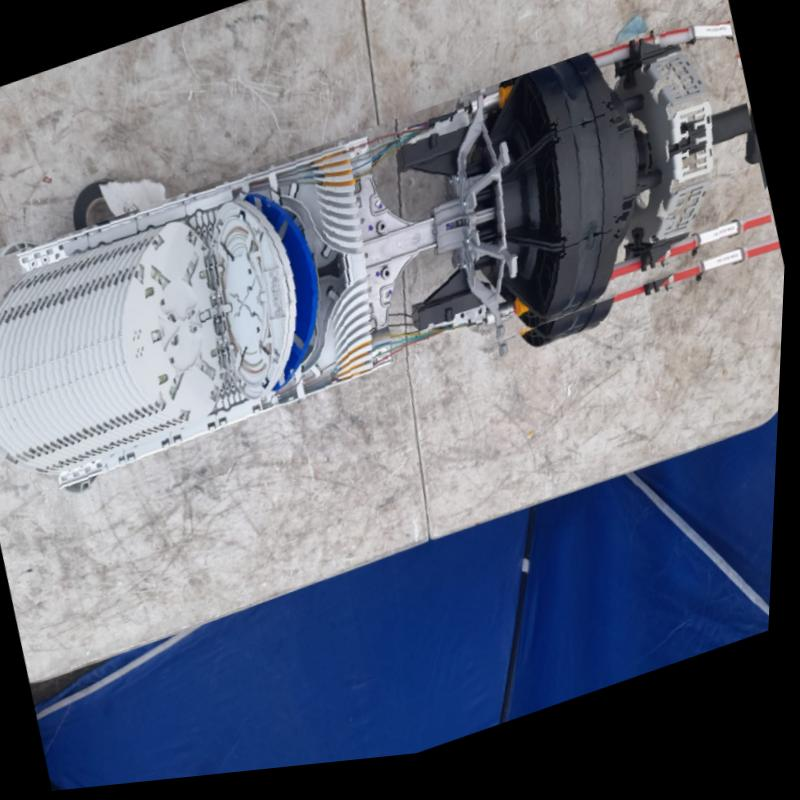NT-Muffen: (0, 13, 792, 537)
